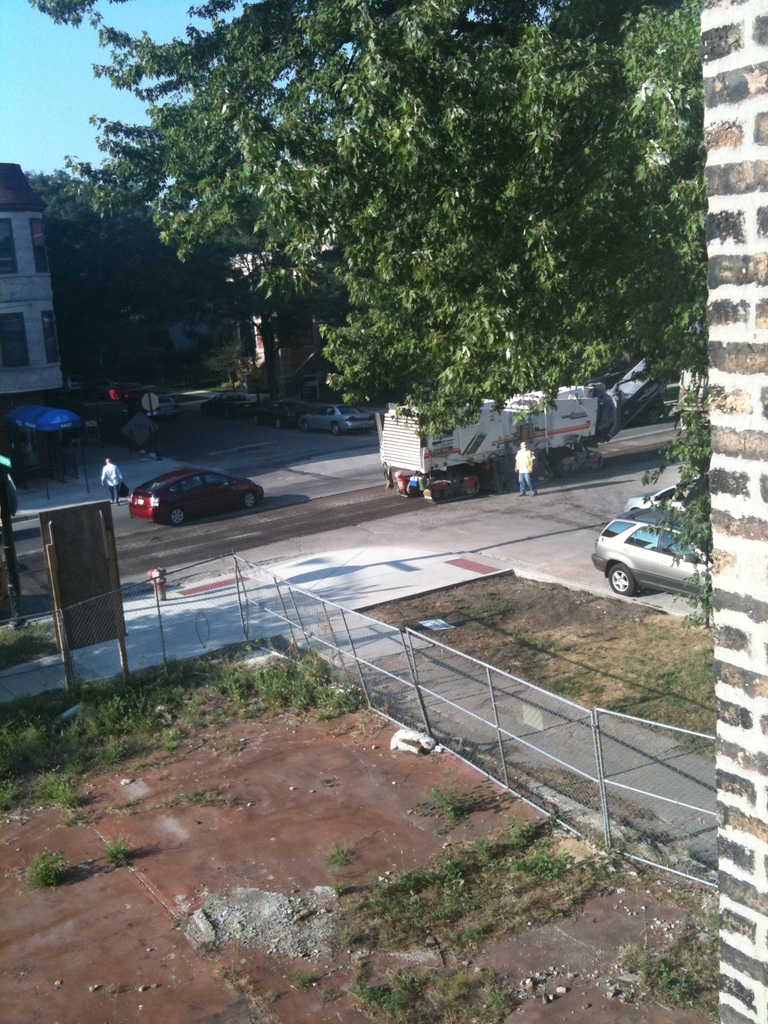Tree: (64, 37, 691, 433)
